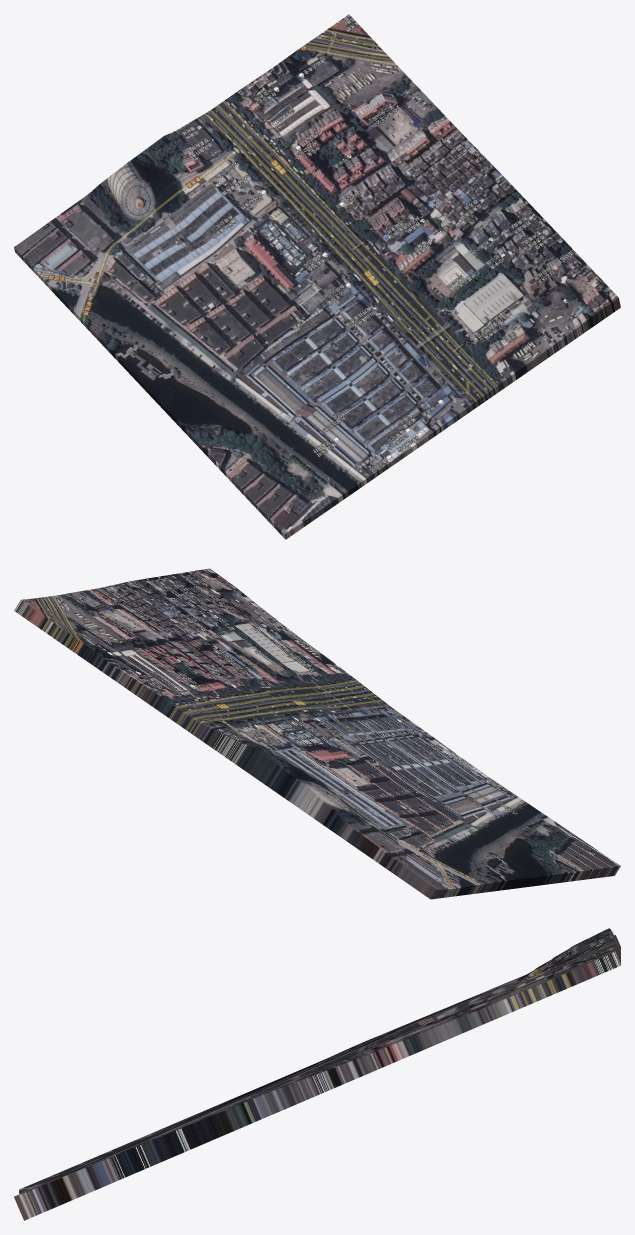
3 renders of one model, top to bottom at view 1: azimuth 30°, elevation 25°; view 2: azimuth 150°, elevation 25°; view 3: azimuth 270°, elevation 25°, orthographic. The views are drawn at different scales.
Parts seen in each view (by area): view 1: 0_4_3; view 2: 0_4_3; view 3: 0_4_3.
Boxes of the visible parts, box(x1,y1,x2,y2) form: 0_4_3: box(14, 14, 620, 539); 0_4_3: box(14, 568, 620, 899); 0_4_3: box(14, 928, 620, 1220).
Size of the model in its own units: 597 by 440 by 551.
1 material, 1 textured.
